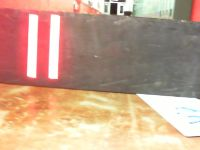switch: (48, 14, 61, 79), (26, 14, 38, 79)
